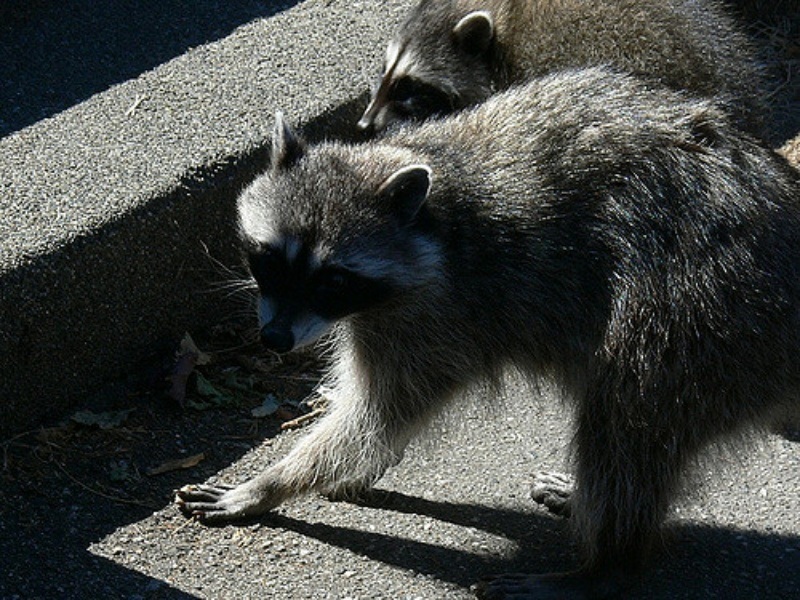raccoon: (173, 73, 800, 594), (346, 1, 785, 144)
